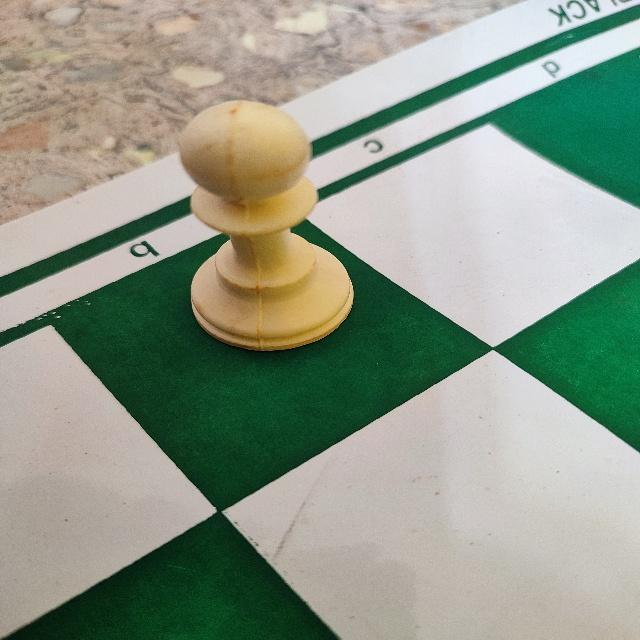Pawn: (172, 96, 370, 358)
